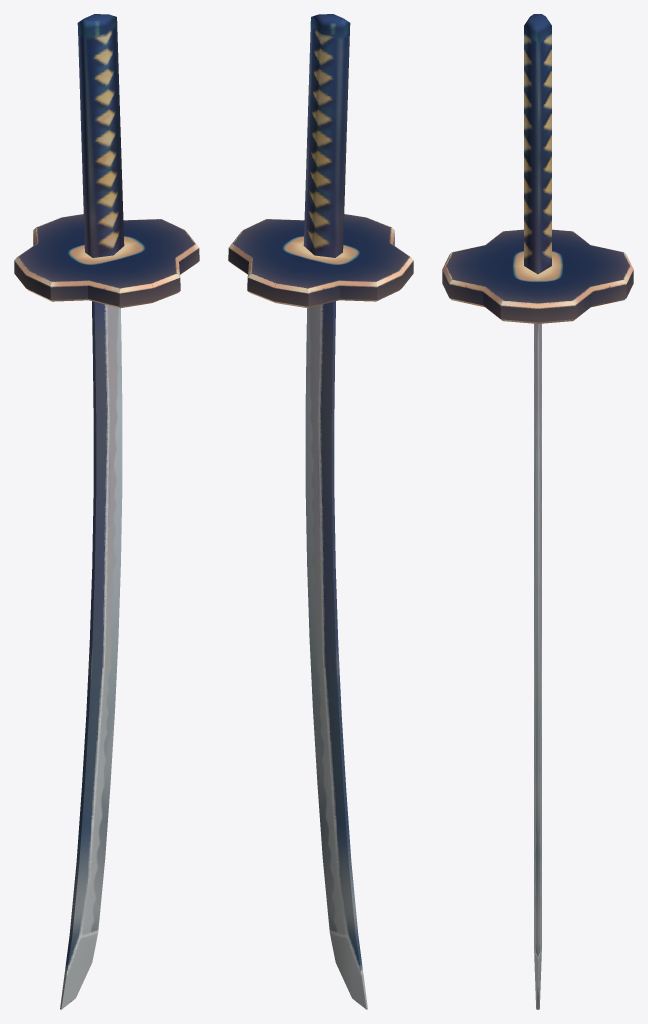
3 views of the same model, side by side, from view 1: azimuth 30°, elevation 25°; view 2: azimuth 150°, elevation 25°; view 3: azimuth 270°, elevation 25° (orthographic). The views are drawn at different scales.
Visible parts, largest first — view 1: A_4D5; view 2: A_4D5; view 3: A_4D5.
Part boxes in pixels (<box>): A_4D5: <box>14,14,199,1009</box>; A_4D5: <box>228,14,413,1009</box>; A_4D5: <box>442,14,633,1009</box>.
Bounding box in the file's own units: 22.1 × 128 × 22.08.
